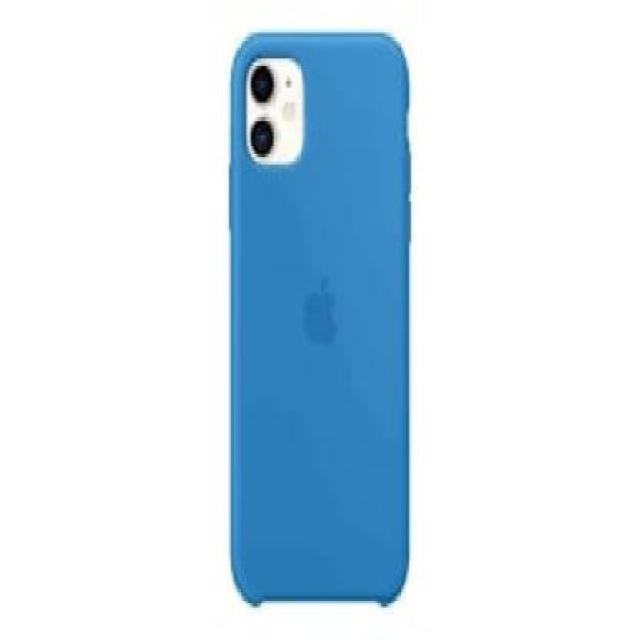lens: (245, 52, 303, 162)
phone: (229, 30, 411, 612)
